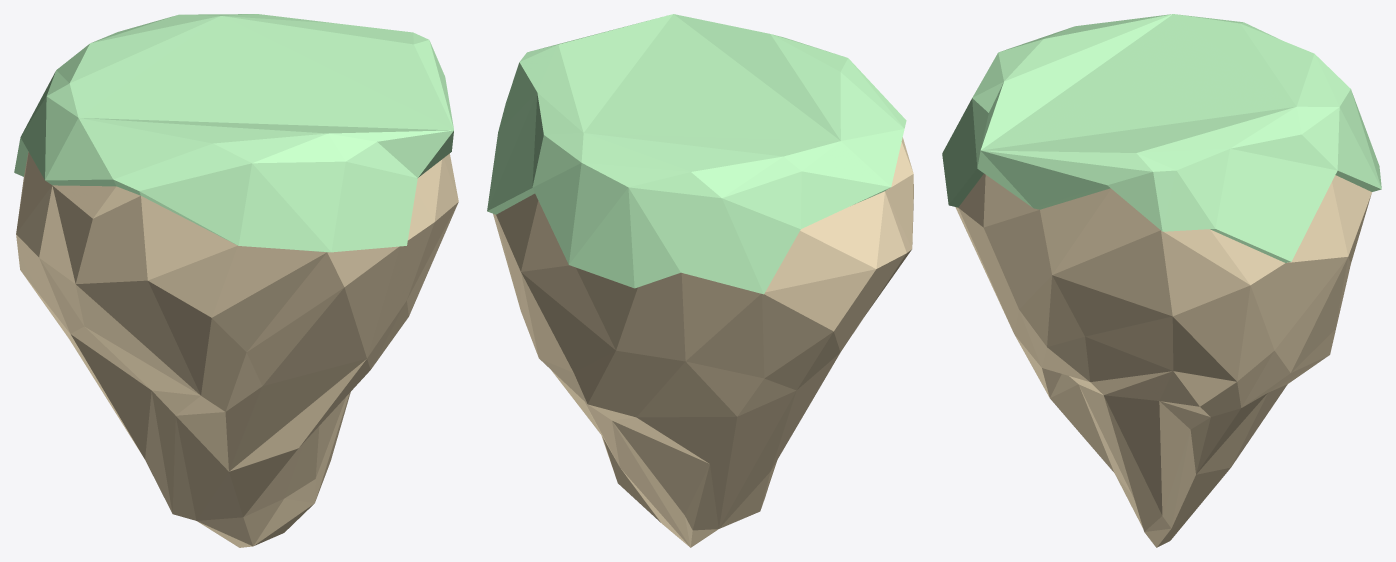
File: island.glb
3 views of the same model, side by side, from view 1: azimuth 30°, elevation 25°; view 2: azimuth 150°, elevation 25°; view 3: azimuth 270°, elevation 25° (orthographic). The views are drawn at different scales.
Parts seen in each view (by area): view 1: Base_IslandBase_0, Top_IslandTop_0; view 2: Top_IslandTop_0, Base_IslandBase_0; view 3: Base_IslandBase_0, Top_IslandTop_0.
Boxes of the visible parts, x1,y1,x2,y2 form: Base_IslandBase_0: (16, 151, 458, 547); Top_IslandTop_0: (14, 14, 453, 252); Top_IslandTop_0: (487, 14, 906, 294); Base_IslandBase_0: (493, 137, 913, 547); Base_IslandBase_0: (955, 173, 1371, 547); Top_IslandTop_0: (942, 14, 1381, 262).
Bounding box in the file's own units: 12.64 × 14.01 × 12.09.
